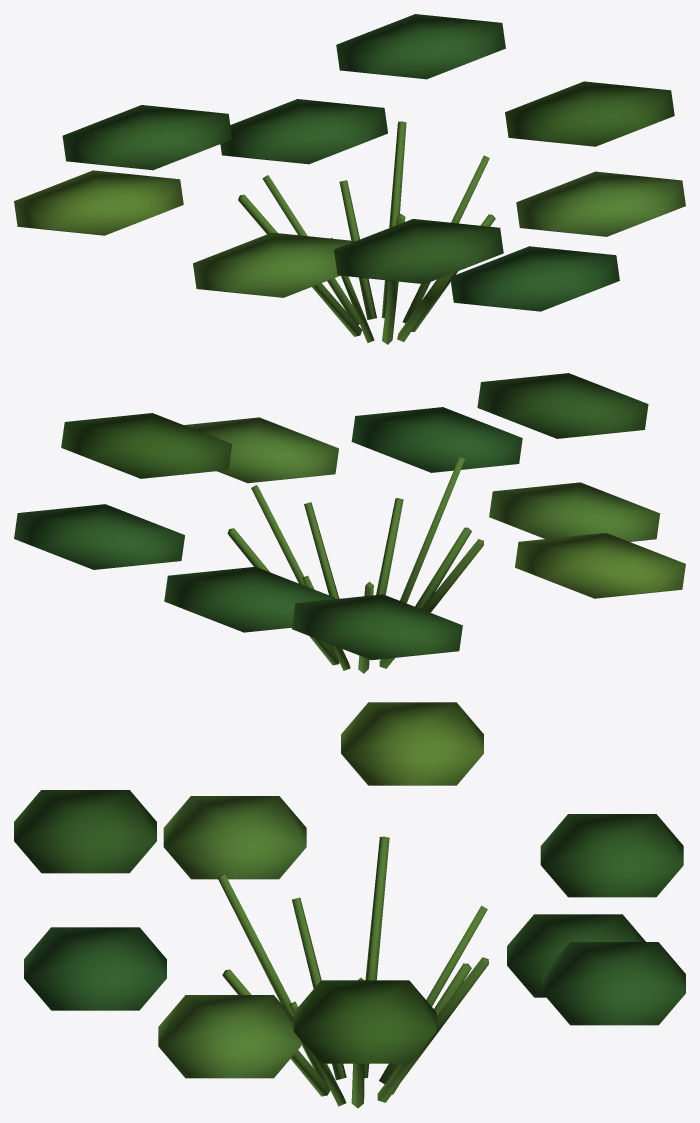
The model's file is PRP_Ground_Cover_A.glb.
The picture shows the model from 3 angles, top to bottom: view 1: azimuth 30°, elevation 25°; view 2: azimuth 150°, elevation 25°; view 3: azimuth 270°, elevation 25°; orthographic projection. The views are drawn at different scales.
Parts seen in each view (by area): view 1: PRP_Ground_Cover_A_Mesh; view 2: PRP_Ground_Cover_A_Mesh; view 3: PRP_Ground_Cover_A_Mesh.
Part boxes in pixels (box(x1,y1,x2,y2)): PRP_Ground_Cover_A_Mesh: box(14, 14, 685, 344); PRP_Ground_Cover_A_Mesh: box(14, 373, 685, 673); PRP_Ground_Cover_A_Mesh: box(14, 702, 685, 1108).
Bounding box in the file's own units: 1.36 × 0.4006 × 1.08.
